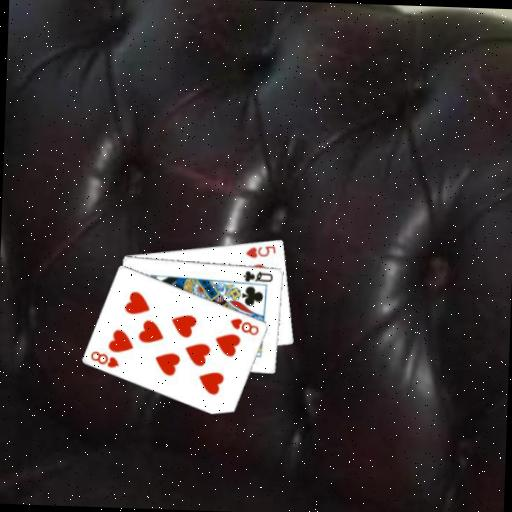5H: (242, 241, 277, 260)
8H: (226, 314, 260, 337), (88, 347, 121, 369)
QC: (240, 267, 275, 283)
